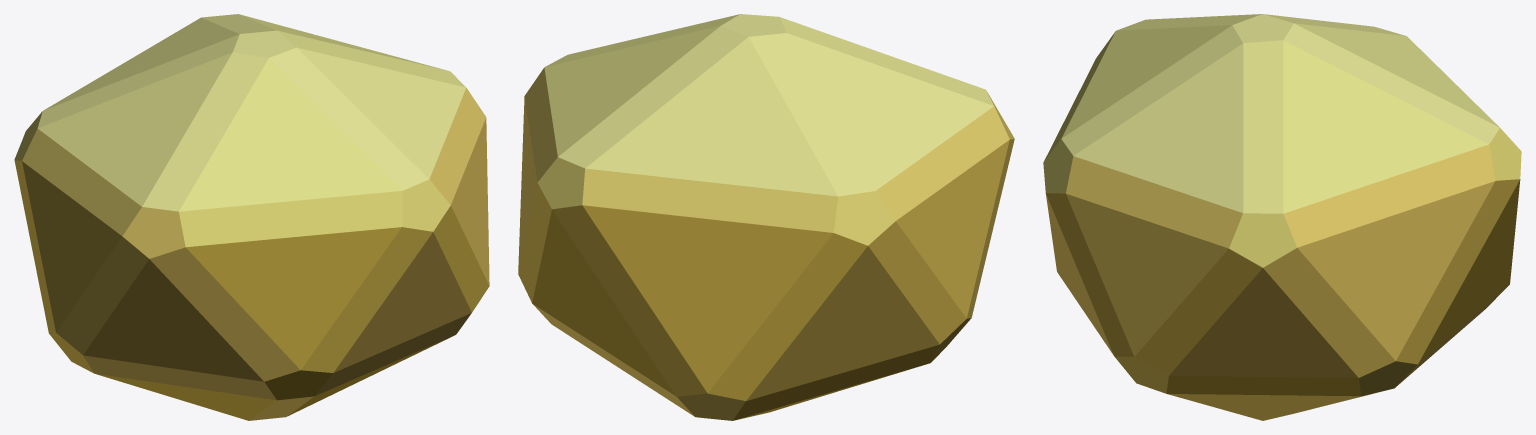
Rendered from Gold_Nugget.glb.
3 views of the same model, side by side, from view 1: azimuth 30°, elevation 25°; view 2: azimuth 150°, elevation 25°; view 3: azimuth 270°, elevation 25° (orthographic). The views are drawn at different scales.
Parts seen in each view (by area): view 1: Gold_Nugget; view 2: Gold_Nugget; view 3: Gold_Nugget.
Part boxes in pixels (x1,y1,x2,y2): Gold_Nugget: (14,14,489,420); Gold_Nugget: (518,14,1014,420); Gold_Nugget: (1043,14,1521,420).
Size of the model in its own units: 0.3377 by 0.2811 by 0.3189.
